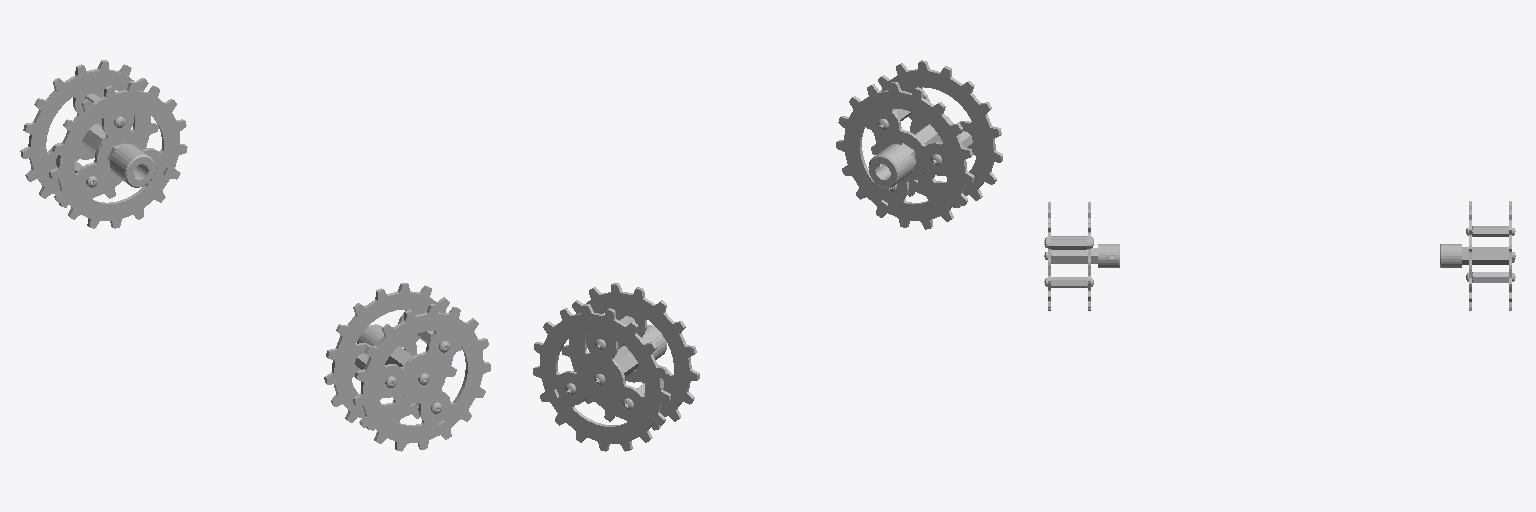
URDF robot description (robotfinal):
<?xml version="1.0" encoding="utf-8"?>
<!-- This URDF was automatically created by SolidWorks to URDF Exporter! Originally created by [author] ([email redacted]) 
     Commit Version: 1.5.1-0-g916b5db  Build Version: 1.5.7152.31018
     For more information, please see http://wiki.ros.org/sw_urdf_exporter -->
<robot
  name="robotfinal">
  <link
    name="chassis_link">
    <inertial>
      <origin
        xyz="-0.019165 -4.9915E-05 -0.069673"
        rpy="0 0 0" />
      <mass
        value="0.99903" />
      <inertia
        ixx="0.00081644"
        ixy="4.489E-09"
        ixz="-8.1238E-06"
        iyy="0.0023138"
        iyz="-1.2828E-09"
        izz="0.0029163" />
    </inertial>
    <visual>
      <origin
        xyz="0 0 0"
        rpy="0 0 0" />
      <geometry>
        <mesh
          filename="package://robotfinal/meshes/chassis_link.STL" />
      </geometry>
      <material
        name="">
        <color
          rgba="0.64706 0.61961 0.58824 1" />
      </material>
    </visual>
    <collision>
      <origin
        xyz="0 0 0"
        rpy="0 0 0" />
      <geometry>
        <mesh
          filename="package://robotfinal/meshes/chassis_link.STL" />
      </geometry>
    </collision>
  </link>
  <link
    name="R_BCD">
    <inertial>
      <origin
        xyz="-1.4807E-06 -3.1788E-05 -0.003944"
        rpy="0 0 0" />
      <mass
        value="0.036285" />
      <inertia
        ixx="3.9446E-06"
        ixy="-2.7291E-09"
        ixz="-5.1243E-09"
        iyy="3.9498E-06"
        iyz="-1.6836E-09"
        izz="4.4119E-06" />
    </inertial>
    <visual>
      <origin
        xyz="0 0 0"
        rpy="0 0 0" />
      <geometry>
        <mesh
          filename="package://robotfinal/meshes/R_BCD.STL" />
      </geometry>
      <material
        name="">
        <color
          rgba="0.75294 0.75294 0.75294 1" />
      </material>
    </visual>
    <collision>
      <origin
        xyz="0 0 0"
        rpy="0 0 0" />
      <geometry>
        <mesh
          filename="package://robotfinal/meshes/R_BCD.STL" />
      </geometry>
    </collision>
  </link>
  <joint
    name="R_BCD_joint"
    type="continuous">
    <origin
      xyz="-0.108347290534696 -0.103000000000001 -0.0599596544378096"
      rpy="1.57079632679488 0 0" />
    <parent
      link="chassis_link" />
    <child
      link="R_BCD" />
    <axis
      xyz="0 0 1" />
    <limit
      effort="0"
      velocity="10" />
  </joint>
  <link
    name="L_BCD">
    <inertial>
      <origin
        xyz="2.54236738991137E-05 1.14950922850895E-06 0.0039440112706832"
        rpy="0 0 0" />
      <mass
        value="0.0362846245528496" />
      <inertia
        ixx="3.94909384486329E-06"
        ixy="-3.27065914702873E-09"
        ixz="-2.28527803096932E-09"
        iyy="3.94532902854185E-06"
        iyz="-4.88578587042565E-09"
        izz="4.41185875569394E-06" />
    </inertial>
    <visual>
      <origin
        xyz="0 0 0"
        rpy="0 0 0" />
      <geometry>
        <mesh
          filename="package://robotfinal/meshes/L_BCD.STL" />
      </geometry>
      <material
        name="">
        <color
          rgba="0.752941176470588 0.752941176470588 0.752941176470588 1" />
      </material>
    </visual>
    <collision>
      <origin
        xyz="0 0 0"
        rpy="0 0 0" />
      <geometry>
        <mesh
          filename="package://robotfinal/meshes/L_BCD.STL" />
      </geometry>
    </collision>
  </link>
  <joint
    name="L_BCD_joint"
    type="continuous">
    <origin
      xyz="-0.108362582516028 0.102999999999996 -0.0599822962593122"
      rpy="1.5707963267949 0 0" />
    <parent
      link="chassis_link" />
    <child
      link="L_BCD" />
    <axis
      xyz="0 0 1" />
    <limit
      effort="0"
      velocity="10" />
  </joint>
  <link
    name="R_BBD1">
    <inertial>
      <origin
        xyz="7.28277847777958E-07 2.32009663224397E-07 3.51072001136821E-07"
        rpy="0 0 0" />
      <mass
        value="0.0181510227398189" />
      <inertia
        ixx="1.46983823144334E-06"
        ixy="-2.33658940819177E-11"
        ixz="-3.69944187591677E-11"
        iyy="1.4699043173567E-06"
        iyz="-1.1775439002061E-11"
        izz="2.73993560788191E-06" />
    </inertial>
    <visual>
      <origin
        xyz="0 0 0"
        rpy="0 0 0" />
      <geometry>
        <mesh
          filename="package://robotfinal/meshes/R_BBD1.STL" />
      </geometry>
      <material
        name="">
        <color
          rgba="0.298039215686275 0.298039215686275 0.298039215686275 1" />
      </material>
    </visual>
    <collision>
      <origin
        xyz="0 0 0"
        rpy="0 0 0" />
      <geometry>
        <mesh
          filename="package://robotfinal/meshes/R_BBD1.STL" />
      </geometry>
    </collision>
  </link>
  <joint
    name="R_BBD1_joint"
    type="continuous">
    <origin
      xyz="-0.0743310822413043 -0.103000000000001 -0.0249996971806272"
      rpy="1.57079632679488 0 0" />
    <parent
      link="chassis_link" />
    <child
      link="R_BBD1" />
    <axis
      xyz="0 0 1" />
    <limit
      effort="0"
      velocity="10" />
  </joint>
  <link
    name="R_BBD2">
    <inertial>
      <origin
        xyz="-7.54832669189187E-07 1.20186309407293E-07 3.51072001164576E-07"
        rpy="0 0 0" />
      <mass
        value="0.0181510227398189" />
      <inertia
        ixx="1.4698328224365E-06"
        ixy="1.26193698012093E-11"
        ixz="3.83388384159349E-11"
        iyy="1.46990972636354E-06"
        iyz="-6.11403689223335E-12"
        izz="2.73993560788191E-06" />
    </inertial>
    <visual>
      <origin
        xyz="0 0 0"
        rpy="0 0 0" />
      <geometry>
        <mesh
          filename="package://robotfinal/meshes/R_BBD2.STL" />
      </geometry>
      <material
        name="">
        <color
          rgba="0.298039215686275 0.298039215686275 0.298039215686275 1" />
      </material>
    </visual>
    <collision>
      <origin
        xyz="0 0 0"
        rpy="0 0 0" />
      <geometry>
        <mesh
          filename="package://robotfinal/meshes/R_BBD2.STL" />
      </geometry>
    </collision>
  </link>
  <joint
    name="R_BBD2_joint"
    type="continuous">
    <origin
      xyz="-0.0303310822413043 -0.103000000000001 -0.0769996971806272"
      rpy="1.57079632679488 0 0" />
    <parent
      link="chassis_link" />
    <child
      link="R_BBD2" />
    <axis
      xyz="0 0 1" />
    <limit
      effort="0"
      velocity="10" />
  </joint>
  <link
    name="R_BBD3">
    <inertial>
      <origin
        xyz="7.46785111856857E-07 1.62877574087783E-07 3.51072001178454E-07"
        rpy="0 0 0" />
      <mass
        value="0.0181510227398189" />
      <inertia
        ixx="1.4698344579235E-06"
        ixy="-1.68032451889584E-11"
        ixz="-3.79336006985298E-11"
        iyy="1.46990809087654E-06"
        iyz="-8.26377159529318E-12"
        izz="2.73993560788191E-06" />
    </inertial>
    <visual>
      <origin
        xyz="0 0 0"
        rpy="0 0 0" />
      <geometry>
        <mesh
          filename="package://robotfinal/meshes/R_BBD3.STL" />
      </geometry>
      <material
        name="">
        <color
          rgba="0.298039215686275 0.298039215686275 0.298039215686275 1" />
      </material>
    </visual>
    <collision>
      <origin
        xyz="0 0 0"
        rpy="0 0 0" />
      <geometry>
        <mesh
          filename="package://robotfinal/meshes/R_BBD3.STL" />
      </geometry>
    </collision>
  </link>
  <joint
    name="R_BBD3_joint"
    type="continuous">
    <origin
      xyz="0.010169 -0.103 -0.025"
      rpy="1.5708 0 0" />
    <parent
      link="chassis_link" />
    <child
      link="R_BBD3" />
    <axis
      xyz="0 0 1" />
    <limit
      effort="0"
      velocity="10" />
  </joint>
  <link
    name="R_BBD4">
    <inertial>
      <origin
        xyz="6.54810600880795E-07 3.94259032129862E-07 3.51072001178454E-07"
        rpy="0 0 0" />
      <mass
        value="0.0181510227398189" />
      <inertia
        ixx="1.46985229281595E-06"
        ixy="-3.57421524048419E-11"
        ixz="-3.32648047027426E-11"
        iyy="1.46989025598409E-06"
        iyz="-2.00175110531134E-11"
        izz="2.73993560788191E-06" />
    </inertial>
    <visual>
      <origin
        xyz="0 0 0"
        rpy="0 0 0" />
      <geometry>
        <mesh
          filename="package://robotfinal/meshes/R_BBD4.STL" />
      </geometry>
      <material
        name="">
        <color
          rgba="0.298039215686275 0.298039215686275 0.298039215686275 1" />
      </material>
    </visual>
    <collision>
      <origin
        xyz="0 0 0"
        rpy="0 0 0" />
      <geometry>
        <mesh
          filename="package://robotfinal/meshes/R_BBD4.STL" />
      </geometry>
    </collision>
  </link>
  <joint
    name="R_BBD4_joint"
    type="continuous">
    <origin
      xyz="0.0946689177586958 -0.103000000000001 -0.0249996971806272"
      rpy="1.57079632679489 0 0" />
    <parent
      link="chassis_link" />
    <child
      link="R_BBD4" />
    <axis
      xyz="0 0 1" />
    <limit
      effort="0"
      velocity="10" />
  </joint>
  <link
    name="R_BBD5">
    <inertial>
      <origin
        xyz="7.51477552213276E-07 1.39637373046397E-07 3.51072001136821E-07"
        rpy="0 0 0" />
      <mass
        value="0.0181510227398189" />
      <inertia
        ixx="1.46983348693769E-06"
        ixy="-1.44882601873531E-11"
        ixz="-3.81716552756468E-11"
        iyy="1.46990906186235E-06"
        iyz="-7.08327000155153E-12"
        izz="2.73993560788191E-06" />
    </inertial>
    <visual>
      <origin
        xyz="0 0 0"
        rpy="0 0 0" />
      <geometry>
        <mesh
          filename="package://robotfinal/meshes/R_BBD5.STL" />
      </geometry>
      <material
        name="">
        <color
          rgba="0.298039215686275 0.298039215686275 0.298039215686275 1" />
      </material>
    </visual>
    <collision>
      <origin
        xyz="0 0 0"
        rpy="0 0 0" />
      <geometry>
        <mesh
          filename="package://robotfinal/meshes/R_BBD5.STL" />
      </geometry>
    </collision>
  </link>
  <joint
    name="R_BBD5_joint"
    type="continuous">
    <origin
      xyz="0.129668917758696 -0.103000000000001 -0.0619996971806273"
      rpy="1.57079632679489 0 0" />
    <parent
      link="chassis_link" />
    <child
      link="R_BBD5" />
    <axis
      xyz="0 0 1" />
    <limit
      effort="0"
      velocity="10" />
  </joint>
  <link
    name="L_BBD1">
    <inertial>
      <origin
        xyz="-1.71752597269426E-07 -7.447940337732E-07 -3.51072001164576E-07"
        rpy="0 0 0" />
      <mass
        value="0.0181510227398189" />
      <inertia
        ixx="1.46990768056932E-06"
        ixy="-1.76746380202336E-11"
        ixz="-8.71458680308649E-12"
        iyy="1.46983486823072E-06"
        iyz="-3.78325779782943E-11"
        izz="2.73993560788191E-06" />
    </inertial>
    <visual>
      <origin
        xyz="0 0 0"
        rpy="0 0 0" />
      <geometry>
        <mesh
          filename="package://robotfinal/meshes/L_BBD1.STL" />
      </geometry>
      <material
        name="">
        <color
          rgba="0.298039215686275 0.298039215686275 0.298039215686275 1" />
      </material>
    </visual>
    <collision>
      <origin
        xyz="0 0 0"
        rpy="0 0 0" />
      <geometry>
        <mesh
          filename="package://robotfinal/meshes/L_BBD1.STL" />
      </geometry>
    </collision>
  </link>
  <joint
    name="L_BBD1_joint"
    type="continuous">
    <origin
      xyz="-0.074331 0.103 -0.025"
      rpy="1.5708 0 0" />
    <parent
      link="chassis_link" />
    <child
      link="L_BBD1" />
    <axis
      xyz="0 0 1" />
    <limit
      effort="0"
      velocity="10" />
  </joint>
  <link
    name="L_BBD2">
    <inertial>
      <origin
        xyz="-7.62091937389631E-07 5.85916922132834E-08 -3.51072001150698E-07"
        rpy="0 0 0" />
      <mass
        value="0.0181510227398189" />
      <inertia
        ixx="1.46983127214448E-06"
        ixy="6.13364037635632E-12"
        ixz="-3.87097846999644E-11"
        iyy="1.46991127665556E-06"
        iyz="2.9665718985884E-12"
        izz="2.73993560788191E-06" />
    </inertial>
    <visual>
      <origin
        xyz="0 0 0"
        rpy="0 0 0" />
      <geometry>
        <mesh
          filename="package://robotfinal/meshes/L_BBD2.STL" />
      </geometry>
      <material
        name="">
        <color
          rgba="0.298039215686275 0.298039215686275 0.298039215686275 1" />
      </material>
    </visual>
    <collision>
      <origin
        xyz="0 0 0"
        rpy="0 0 0" />
      <geometry>
        <mesh
          filename="package://robotfinal/meshes/L_BBD2.STL" />
      </geometry>
    </collision>
  </link>
  <joint
    name="L_BBD2_joint"
    type="continuous">
    <origin
      xyz="-0.0303310822413065 0.102999999999997 -0.0769996971806279"
      rpy="1.57079632679489 0 0" />
    <parent
      link="chassis_link" />
    <child
      link="L_BBD2" />
    <axis
      xyz="0 0 1" />
    <limit
      effort="0"
      velocity="10" />
  </joint>
  <link
    name="L_BBD3">
    <inertial>
      <origin
        xyz="-5.14908693530214E-08 -7.62604614297502E-07 -3.51072001220087E-07"
        rpy="0 0 0" />
      <mass
        value="0.0181510227398189" />
      <inertia
        ixx="1.46991138396984E-06"
        ixy="-5.38742996710731E-12"
        ixz="-2.60589229846249E-12"
        iyy="1.4698311648302E-06"
        iyz="-3.87357367934029E-11"
        izz="2.73993560788191E-06" />
    </inertial>
    <visual>
      <origin
        xyz="0 0 0"
        rpy="0 0 0" />
      <geometry>
        <mesh
          filename="package://robotfinal/meshes/L_BBD3.STL" />
      </geometry>
      <material
        name="">
        <color
          rgba="0.298039215686275 0.298039215686275 0.298039215686275 1" />
      </material>
    </visual>
    <collision>
      <origin
        xyz="0 0 0"
        rpy="0 0 0" />
      <geometry>
        <mesh
          filename="package://robotfinal/meshes/L_BBD3.STL" />
      </geometry>
    </collision>
  </link>
  <joint
    name="L_BBD3_joint"
    type="continuous">
    <origin
      xyz="0.010169 0.103 -0.025"
      rpy="1.5708 0 0" />
    <parent
      link="chassis_link" />
    <child
      link="L_BBD3" />
    <axis
      xyz="0 0 1" />
    <limit
      effort="0"
      velocity="10" />
  </joint>
  <link
    name="L_BBD4">
    <inertial>
      <origin
        xyz="4.60323504314353E-08 -7.62953556970869E-07 -3.51072001136821E-07"
        rpy="0 0 0" />
      <mass
        value="0.0181510227398189" />
      <inertia
        ixx="1.46991144415693E-06"
        ixy="4.91859962973128E-12"
        ixz="2.34762426130387E-12"
        iyy="1.46983110464311E-06"
        iyz="-3.87522469017893E-11"
        izz="2.73993560788191E-06" />
    </inertial>
    <visual>
      <origin
        xyz="0 0 0"
        rpy="0 0 0" />
      <geometry>
        <mesh
          filename="package://robotfinal/meshes/L_BBD4.STL" />
      </geometry>
      <material
        name="">
        <color
          rgba="0.298039215686275 0.298039215686275 0.298039215686275 1" />
      </material>
    </visual>
    <collision>
      <origin
        xyz="0 0 0"
        rpy="0 0 0" />
      <geometry>
        <mesh
          filename="package://robotfinal/meshes/L_BBD4.STL" />
      </geometry>
    </collision>
  </link>
  <joint
    name="L_BBD4_joint"
    type="continuous">
    <origin
      xyz="0.094669 0.103 -0.025"
      rpy="1.5708 0 0" />
    <parent
      link="chassis_link" />
    <child
      link="L_BBD4" />
    <axis
      xyz="0 0 1" />
    <limit
      effort="0"
      velocity="10" />
  </joint>
  <link
    name="L_BBD5">
    <inertial>
      <origin
        xyz="1.16948539935491E-07 -7.55341079530791E-07 -3.51072001150698E-07"
        rpy="0 0 0" />
      <mass
        value="0.018151022739819" />
      <inertia
        ixx="1.46990983317034E-06"
        ixy="1.2289150645921E-11"
        ixz="5.94958666634597E-12"
        iyy="1.4698327156297E-06"
        iyz="-3.83647025023811E-11"
        izz="2.73993560788191E-06" />
    </inertial>
    <visual>
      <origin
        xyz="0 0 0"
        rpy="0 0 0" />
      <geometry>
        <mesh
          filename="package://robotfinal/meshes/L_BBD5.STL" />
      </geometry>
      <material
        name="">
        <color
          rgba="0.298039215686275 0.298039215686275 0.298039215686275 1" />
      </material>
    </visual>
    <collision>
      <origin
        xyz="0 0 0"
        rpy="0 0 0" />
      <geometry>
        <mesh
          filename="package://robotfinal/meshes/L_BBD5.STL" />
      </geometry>
    </collision>
  </link>
  <joint
    name="L_BBD5_joint"
    type="continuous">
    <origin
      xyz="0.12967 0.103 -0.062"
      rpy="1.5708 0 0" />
    <parent
      link="chassis_link" />
    <child
      link="L_BBD5" />
    <axis
      xyz="0 0 1" />
    <limit
      effort="0"
      velocity="10" />
  </joint>
  <link
    name="lidar">
    <inertial>
      <origin
        xyz="0 0 0"
        rpy="0 0 0" />
      <mass
        value="0" />
      <inertia
        ixx="0"
        ixy="0"
        ixz="0"
        iyy="0"
        iyz="0"
        izz="0" />
    </inertial>
    <visual>
      <origin
        xyz="0 0 0"
        rpy="0 0 0" />
      <geometry>
        <mesh
          filename="package://robotfinal/meshes/lidar.STL" />
      </geometry>
      <material
        name="">
        <color
          rgba="1 1 1 1" />
      </material>
    </visual>
    <collision>
      <origin
        xyz="0 0 0"
        rpy="0 0 0" />
      <geometry>
        <mesh
          filename="package://robotfinal/meshes/lidar.STL" />
      </geometry>
    </collision>
  </link>
  <joint
    name="lidar_joint"
    type="fixed">
    <origin
      xyz="0.00060691 -0.00054999 -0.2025"
      rpy="0 0 0" />
    <parent
      link="chassis_link" />
    <child
      link="lidar" />
    <axis
      xyz="0 0 1" />
  </joint>
</robot>

--- Render facts (derived) ---
The picture shows the robot from 3 angles, left to right: view 1: azimuth 30°, elevation 25°; view 2: azimuth 150°, elevation 25°; view 3: azimuth 270°, elevation 25°; orthographic projection.
Robot: robotfinal — 14 links, 13 joints (12 continuous, 1 fixed); root link chassis_link; default pose: every joint at zero.
Links seen in each view (by area): view 1: R_BCD, L_BCD; view 2: L_BCD, R_BCD; view 3: L_BCD, R_BCD.
Boxes of the visible links, bbox=[...] form: R_BCD: bbox=[324, 283, 490, 451]; L_BCD: bbox=[20, 60, 187, 228]; L_BCD: bbox=[533, 283, 699, 451]; R_BCD: bbox=[836, 60, 1002, 229]; L_BCD: bbox=[1440, 201, 1515, 310]; R_BCD: bbox=[1044, 202, 1119, 310].
Bounding box of the posed robot: 0.0534 × 0.2301 × 0.0533 m (x, y, z).
2 mesh visuals loaded from 14 distinct referenced files (2 binary STL); not drawn: 12 (reference not matched to a file when rendering).